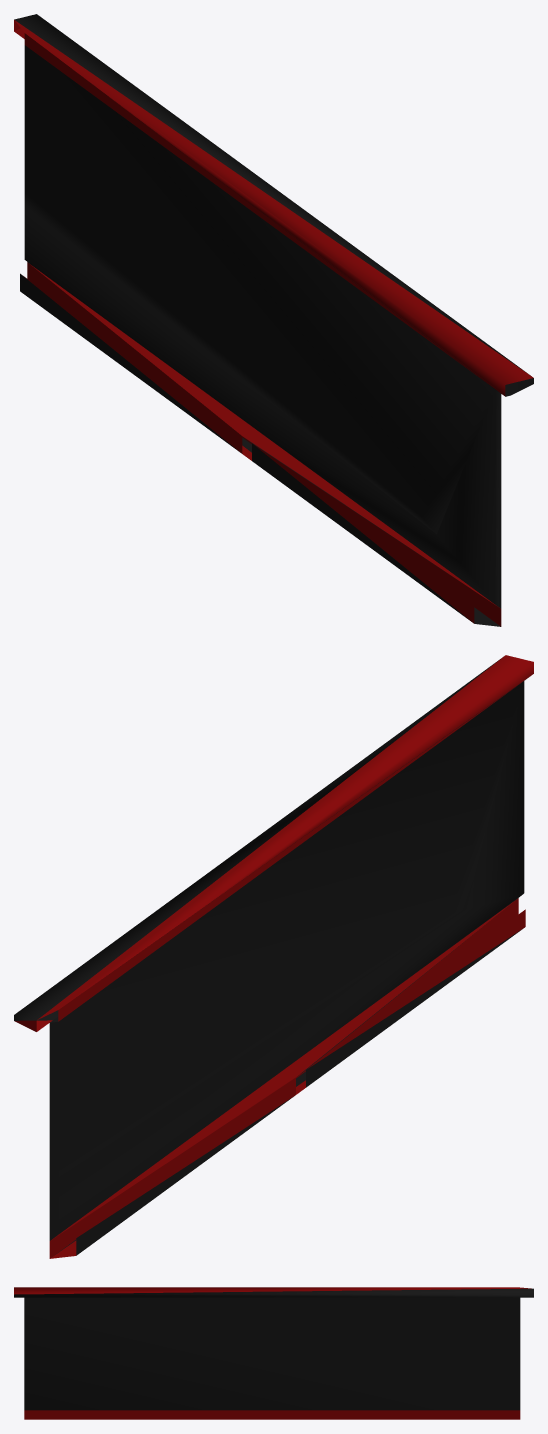
File: original-22-right.obj
3 views of the same model, one above another, from view 1: azimuth 30°, elevation 25°; view 2: azimuth 150°, elevation 25°; view 3: azimuth 270°, elevation 25° (orthographic). The views are drawn at different scales.
Visible parts, largest first — view 1: mesh39/mesh39-geometry#mesh39-geometry.002; view 2: mesh39/mesh39-geometry#mesh39-geometry.002; view 3: mesh39/mesh39-geometry#mesh39-geometry.002.
Boxes of the visible parts, left/top/right/bottom form: mesh39/mesh39-geometry#mesh39-geometry.002: left=14, top=14, right=533, bottom=626; mesh39/mesh39-geometry#mesh39-geometry.002: left=14, top=655, right=533, bottom=1258; mesh39/mesh39-geometry#mesh39-geometry.002: left=14, top=1287, right=533, bottom=1419.
Bounding box in the file's own units: 0.0547 × 0.3279 × 1.18.
